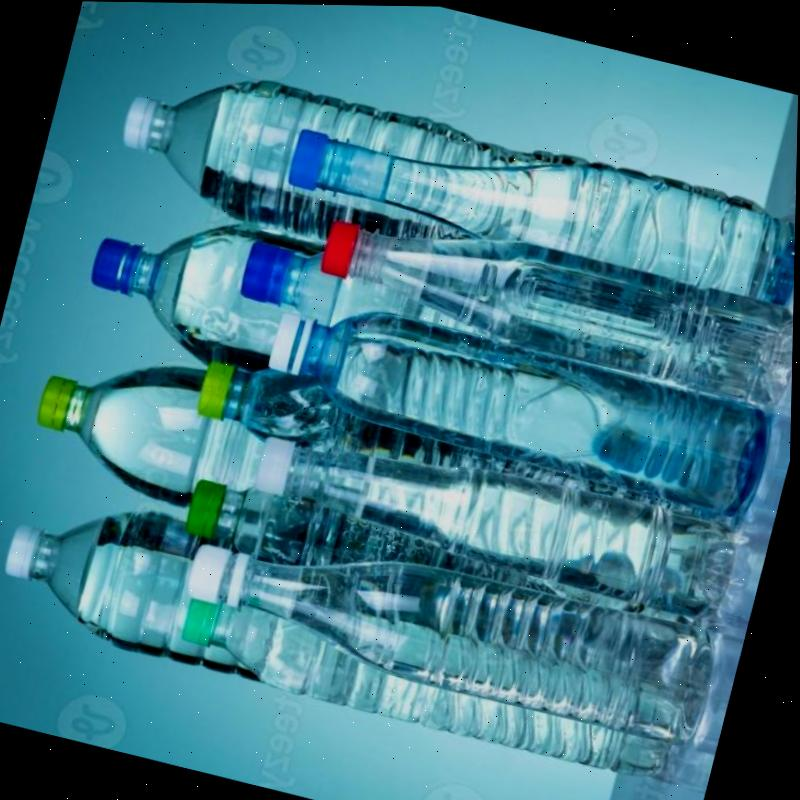botella: (108, 49, 778, 344), (177, 507, 725, 747), (261, 287, 781, 516), (283, 86, 799, 309), (312, 192, 797, 405), (248, 413, 742, 620), (173, 592, 682, 782), (0, 476, 297, 681), (24, 331, 284, 522), (75, 192, 311, 385), (238, 229, 497, 363)
